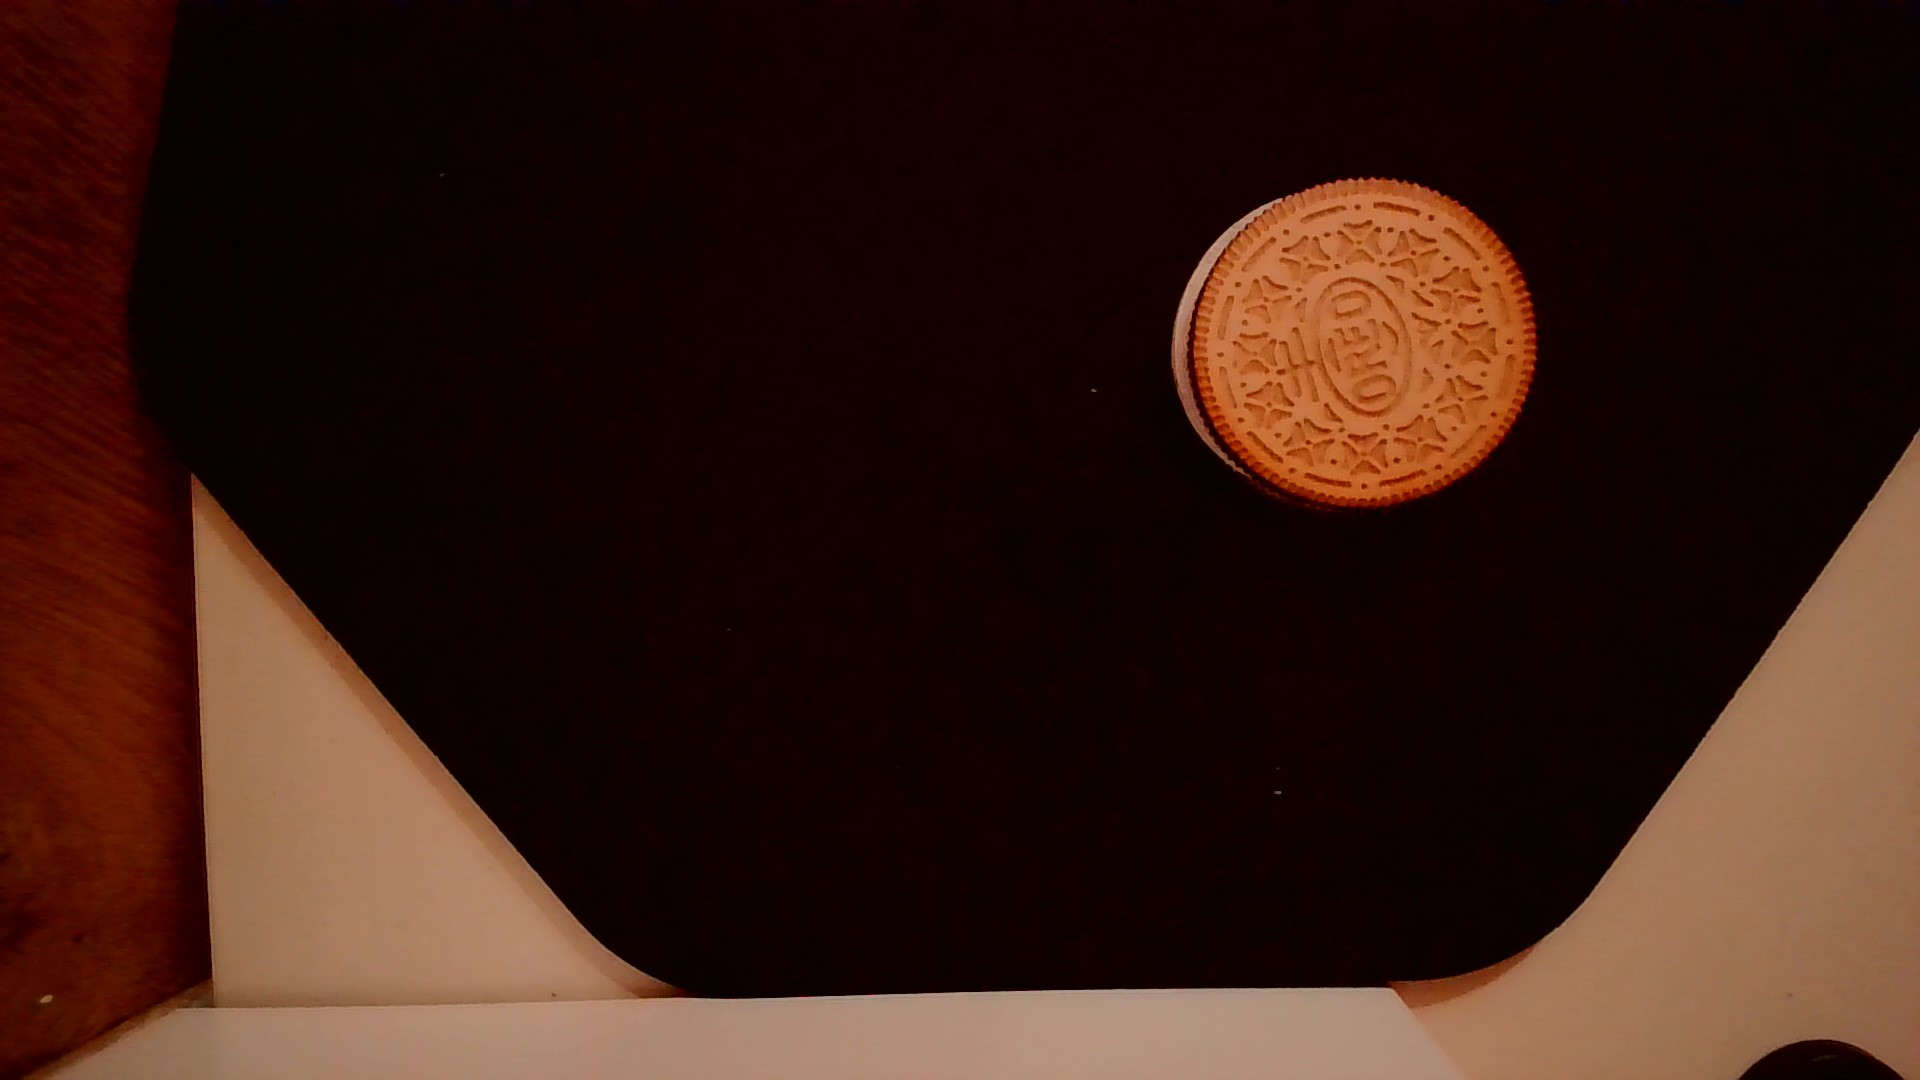Décalé: (1156, 194, 1292, 483)
Oréo: (1182, 169, 1545, 517)
